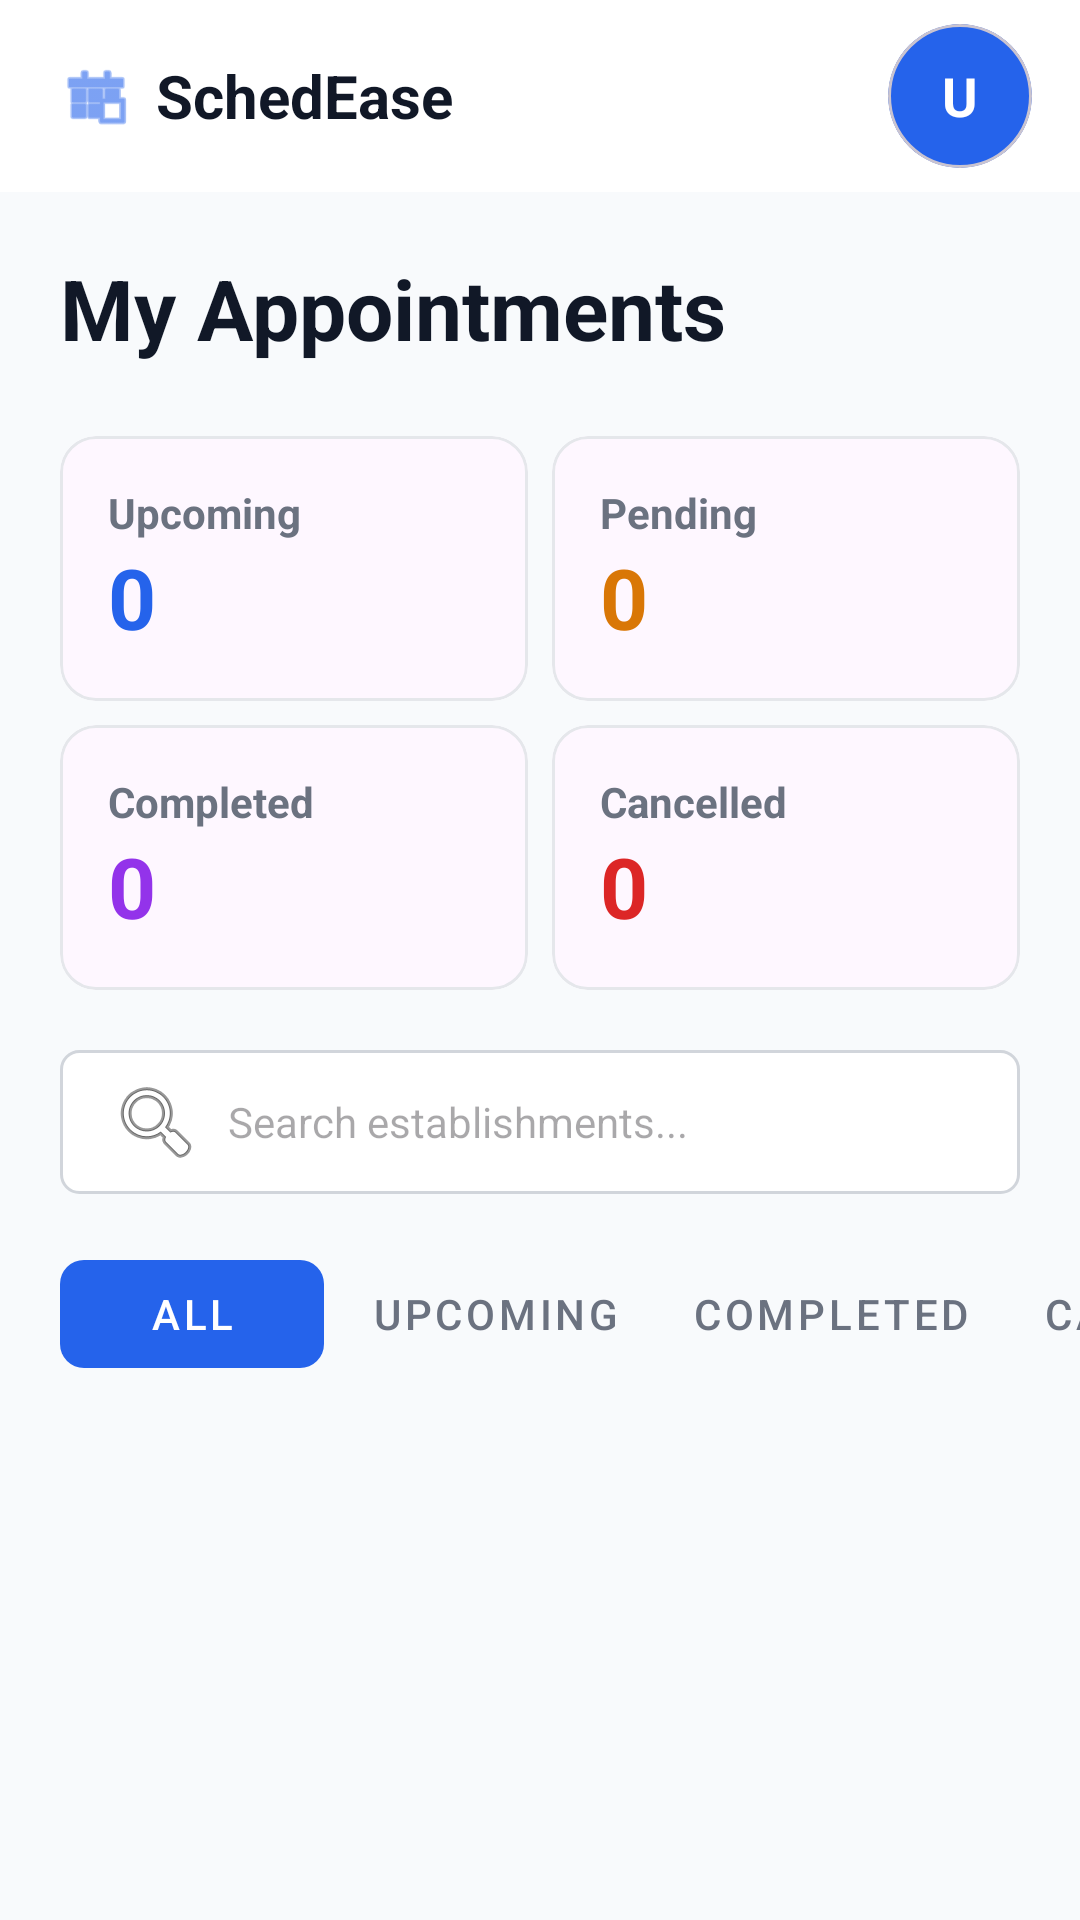

Named icons in this screenshot (1080 × 1920) and their bounding boxes, (x1, y1, x2, y2):
today: (67, 70, 126, 125)
